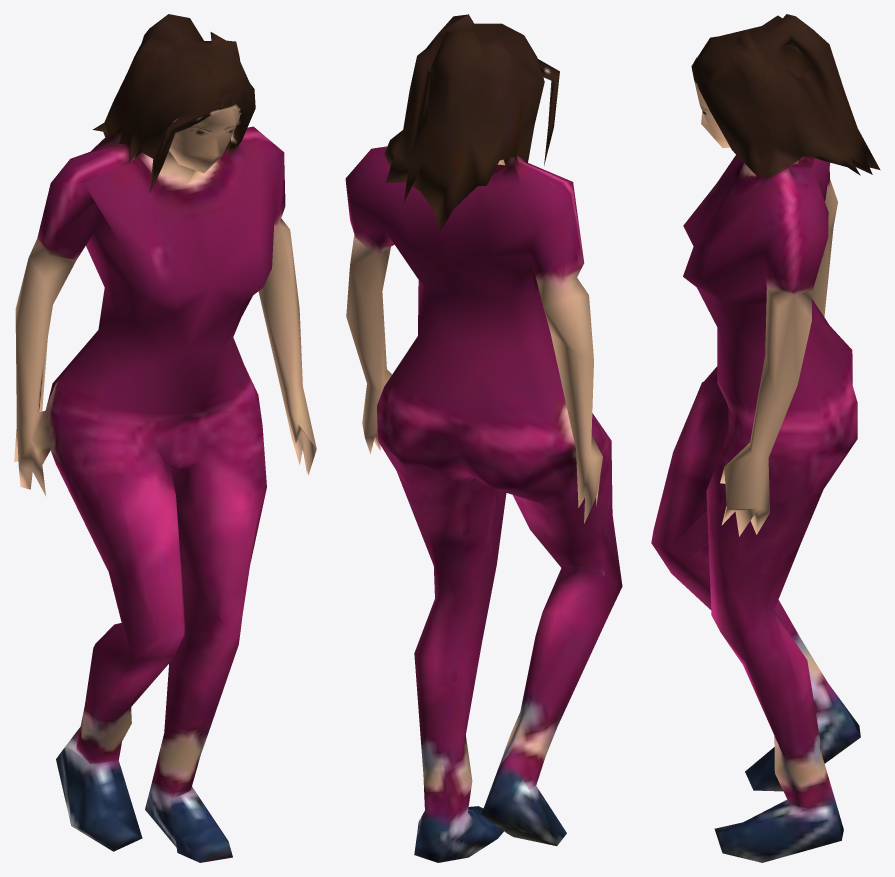
File: female-a-walk-b-far.glb
3 views of the same model, side by side, from view 1: azimuth 30°, elevation 25°; view 2: azimuth 150°, elevation 25°; view 3: azimuth 270°, elevation 25° (orthographic).
Visible parts, largest first — view 1: crowd; view 2: crowd; view 3: crowd.
Boxes of the visible parts, x1,y1,x2,y2 form: crowd: [14, 14, 316, 862]; crowd: [345, 14, 622, 862]; crowd: [651, 14, 880, 862].
Size of the model in its own units: 0.5571 by 1.69 by 0.4211.
1 material, 1 textured.
